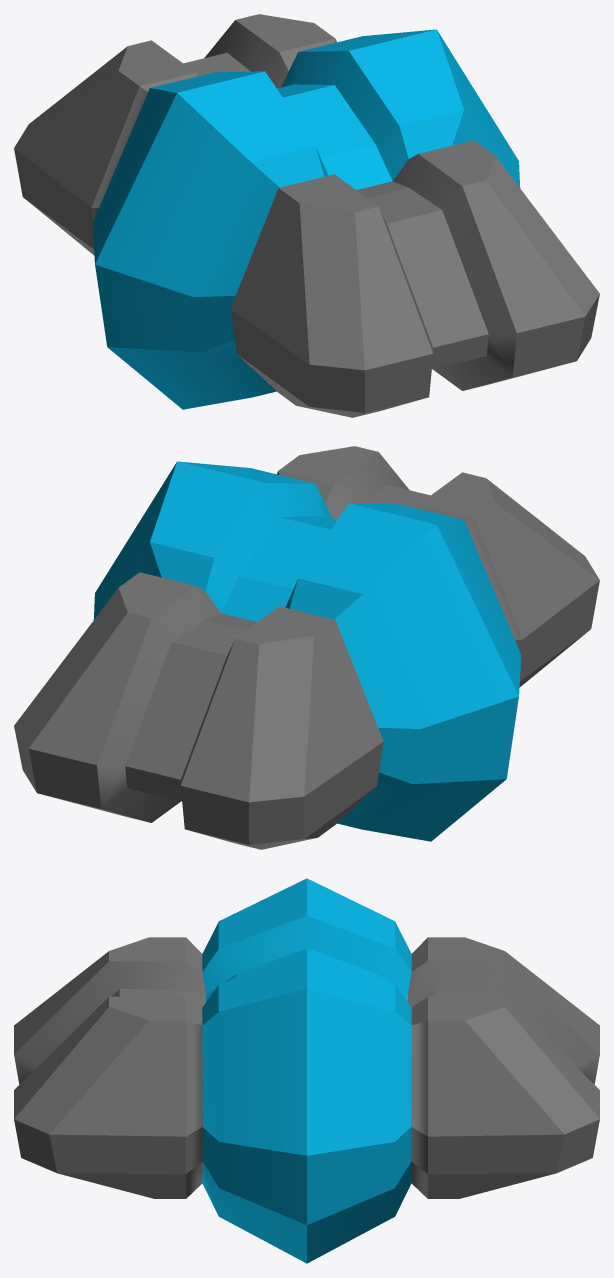
File: _1Ship_PIece2.fbx
3 views of the same model, one above another, from view 1: azimuth 30°, elevation 25°; view 2: azimuth 150°, elevation 25°; view 3: azimuth 270°, elevation 25° (orthographic). The views are drawn at different scales.
Parts seen in each view (by area): view 1: Ship_PIece2; view 2: Ship_PIece2; view 3: Ship_PIece2.
Part boxes in pixels (x1=…): Ship_PIece2: x1=14, y1=14, x2=599, y2=417; Ship_PIece2: x1=14, y1=446, x2=599, y2=849; Ship_PIece2: x1=14, y1=878, x2=599, y2=1263.
Size of the model in its own units: 271 by 194 by 372.
